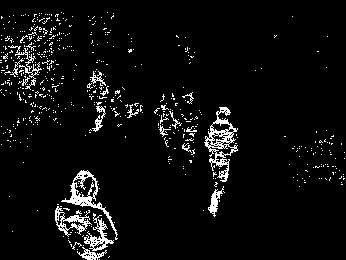person: (55, 168, 118, 259), (205, 105, 239, 216), (154, 91, 178, 163), (178, 91, 199, 161), (87, 68, 108, 132)
